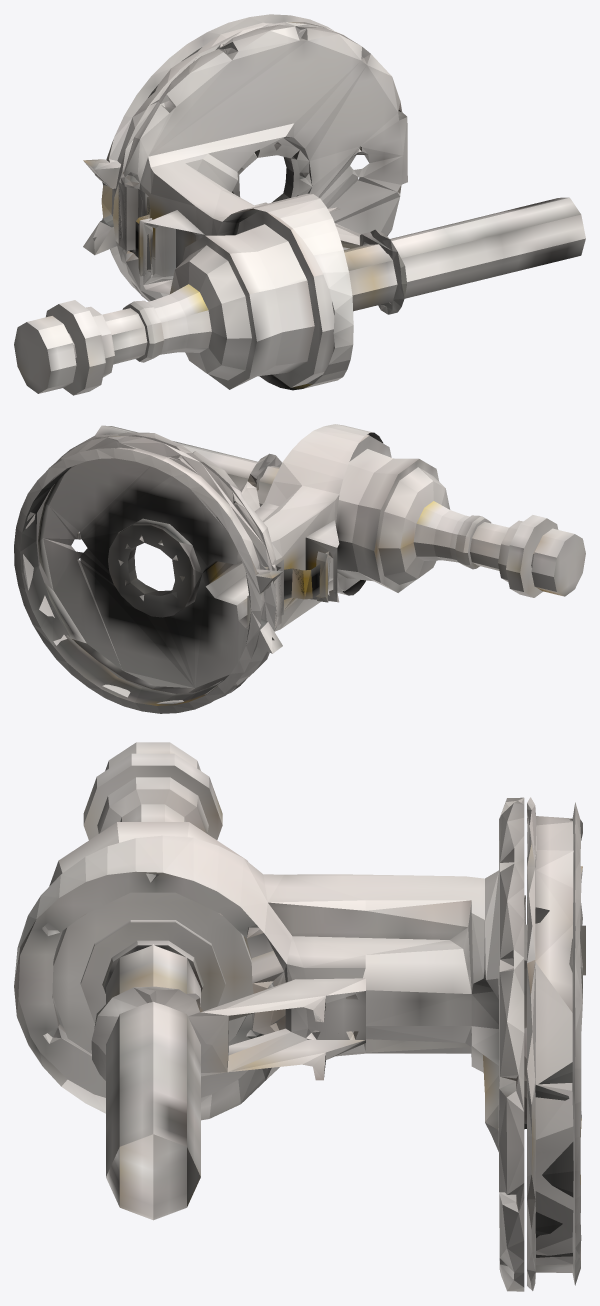
The model's file is hga_az.obj.
3 renders of one model, top to bottom at view 1: azimuth 30°, elevation 25°; view 2: azimuth 150°, elevation 25°; view 3: azimuth 270°, elevation 25°, orthographic. The views are drawn at different scales.
Size of the model in its own units: 0.336 by 0.1818 by 0.2094.
Materials: 1 (1 with a texture image).
